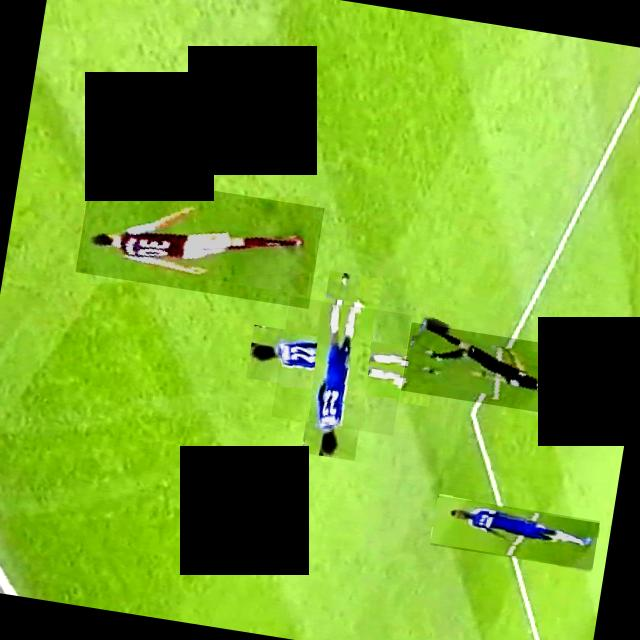referee: (401, 322, 575, 416)
soccer-player: (76, 170, 324, 308), (271, 295, 412, 435), (430, 494, 600, 570), (614, 329, 640, 369)
